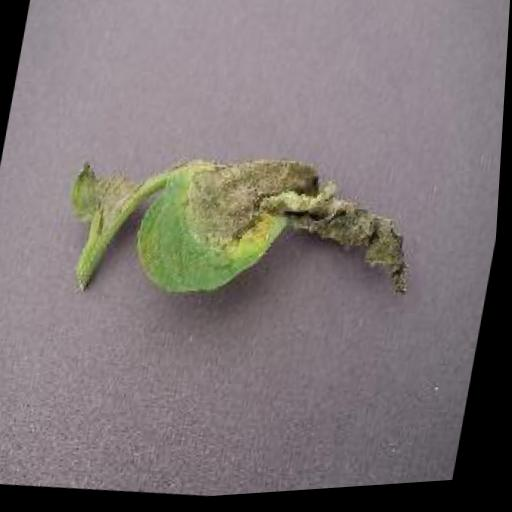Late Blight: (127, 133, 437, 333)
